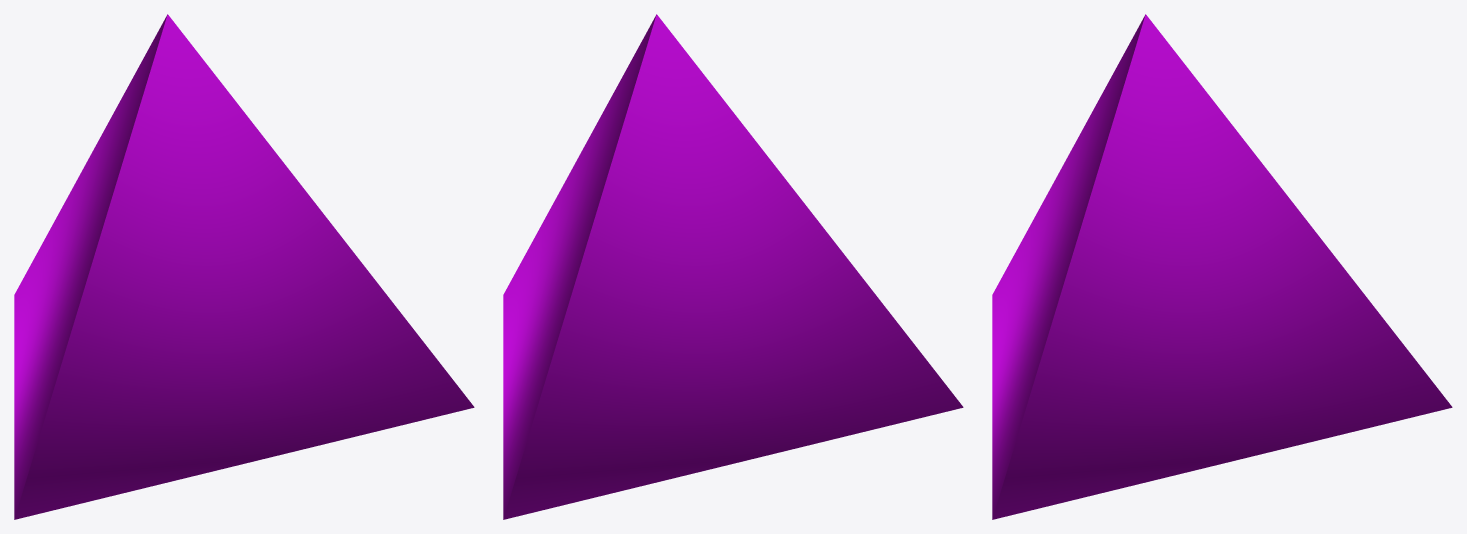
The model's file is 1.SP-Tetraedro.gltf.
3 renders of one model, left to right at view 1: azimuth 30°, elevation 25°; view 2: azimuth 150°, elevation 25°; view 3: azimuth 270°, elevation 25°, orthographic.
Visible parts, largest first — view 1: 1.SP Tetraedro; view 2: 1.SP Tetraedro; view 3: 1.SP Tetraedro.
Boxes of the visible parts, left/top/right/bottom form: 1.SP Tetraedro: left=14, top=14, right=474, bottom=519; 1.SP Tetraedro: left=503, top=14, right=963, bottom=519; 1.SP Tetraedro: left=992, top=14, right=1452, bottom=519.
Size of the model in its own units: 0.05 by 0.0408 by 0.0433.
